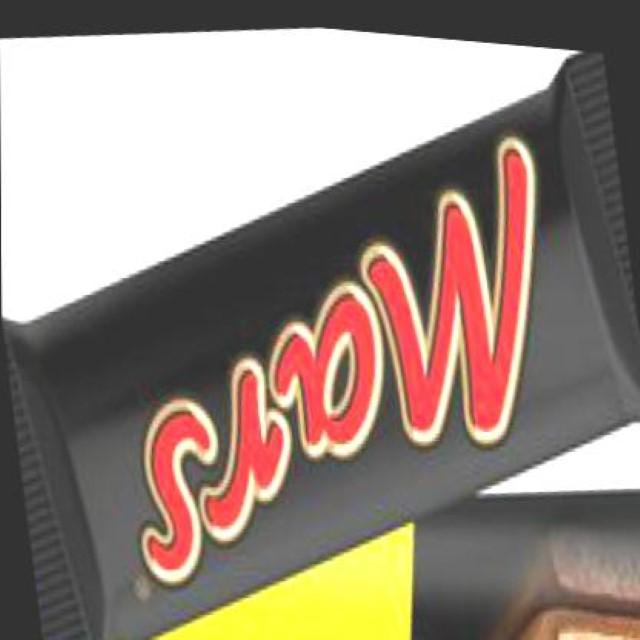mars_chocolate: (5, 83, 558, 640)
